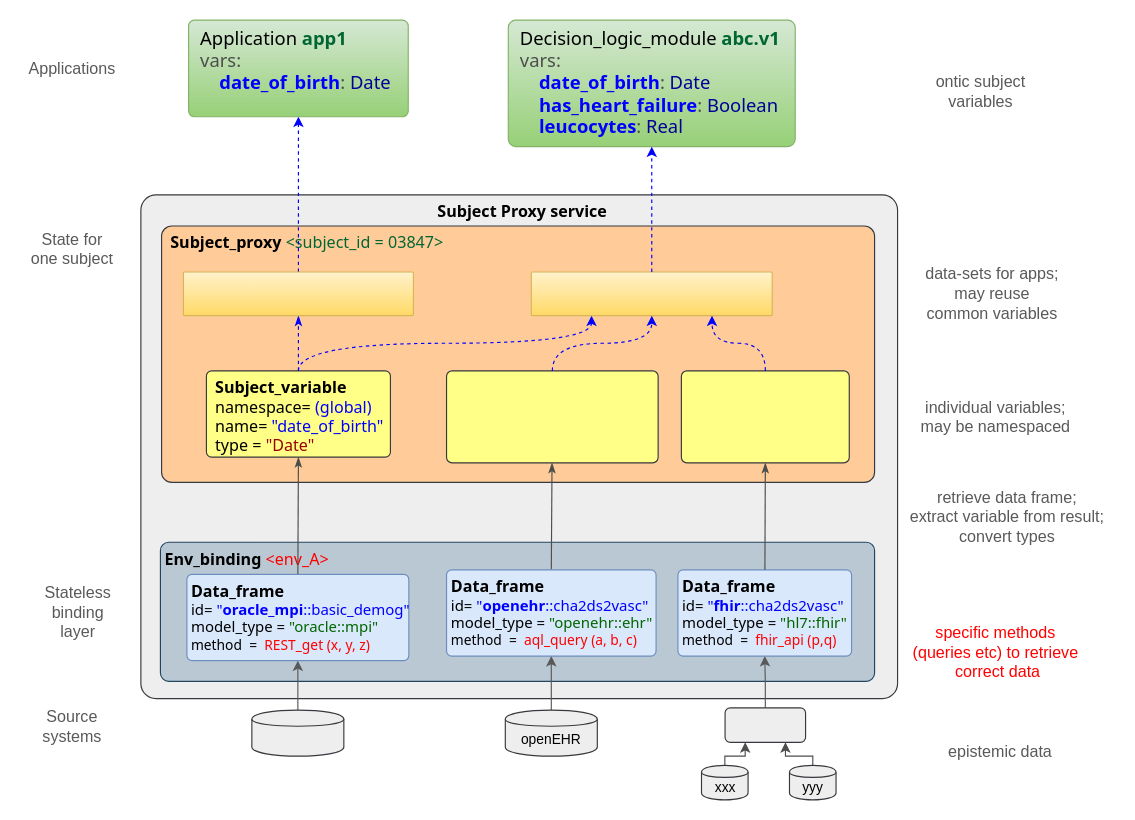
Some shapes in this 1135 by 820 pixel diagram are drawn without their labels. Here are the shapes that lost their labels. From the top down, the centre of each, then its label:
(297,293): Subject_ dataset <app1>
(651,293): Subject_ dataset <abc.v1>
(551,416): Subject_variable namespace= "abc" name= " has_heart_failure" type = "Boolean"
(764,416): Subject_variable namespace= (global) name= " leucocytes" type = "Real"
(297,732): Oracle MPI
(765,724): HL7 FHIR
